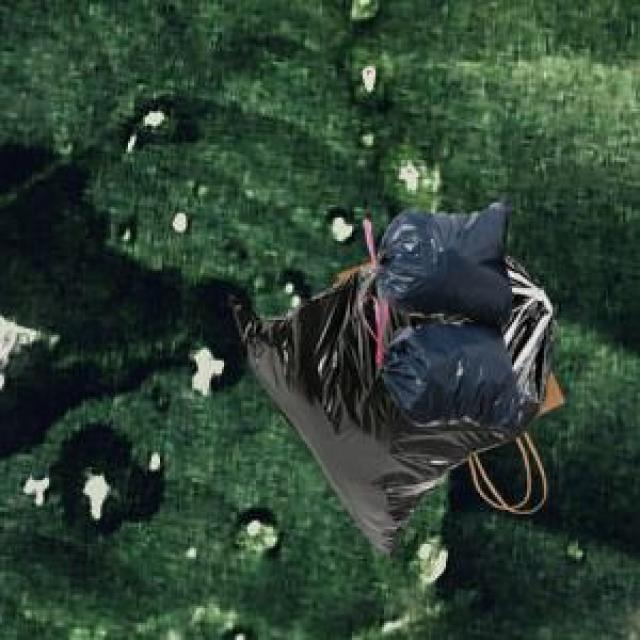miscellaneous trash: (228, 252, 553, 555), (358, 196, 518, 429)
paper: (333, 258, 559, 482)
